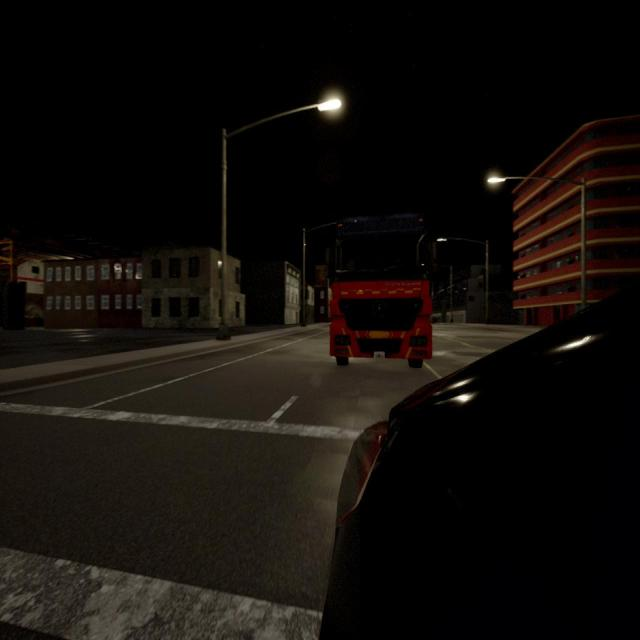Vehicle: (330, 293, 640, 640), (330, 218, 430, 365)
